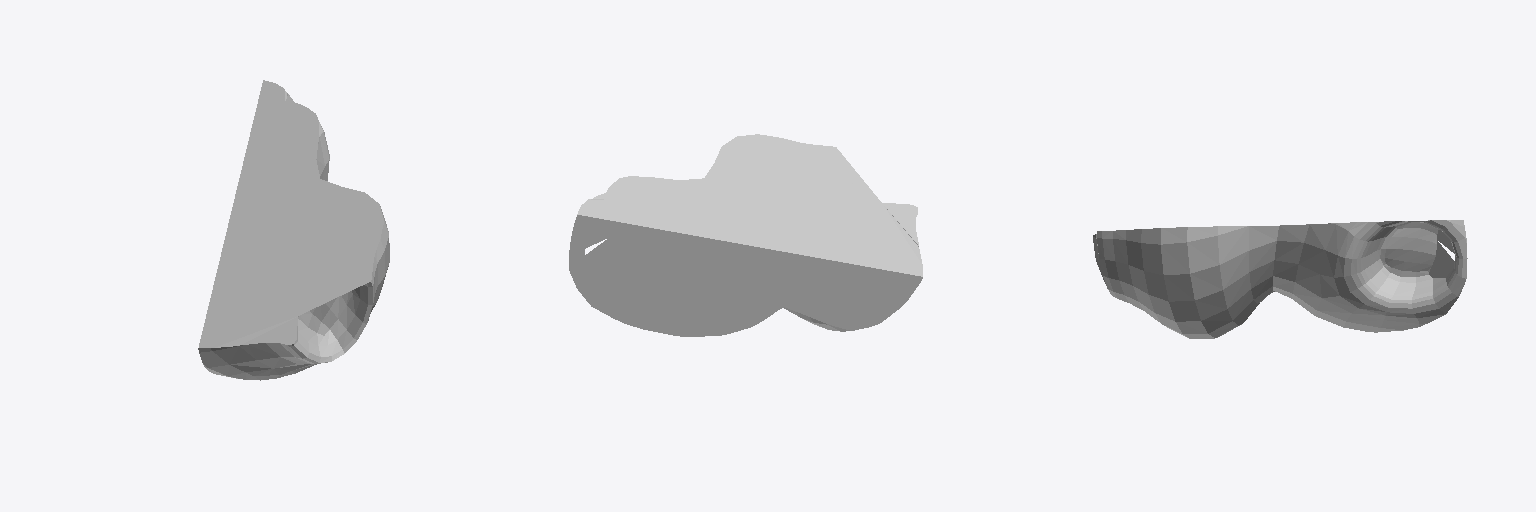
Rendered from FracturePartFracture_002.obj.
3 views of the same model, side by side, from view 1: azimuth 30°, elevation 25°; view 2: azimuth 150°, elevation 25°; view 3: azimuth 270°, elevation 25° (orthographic).
Visible parts, largest first — view 1: Fracture.002; view 2: Fracture.002; view 3: Fracture.002.
Boxes of the visible parts, x1,y1,x2,y2 form: Fracture.002: [198, 80, 389, 380]; Fracture.002: [569, 134, 922, 336]; Fracture.002: [1093, 220, 1467, 338].
Size of the model in its own units: 1.61 by 1.25 by 2.46.